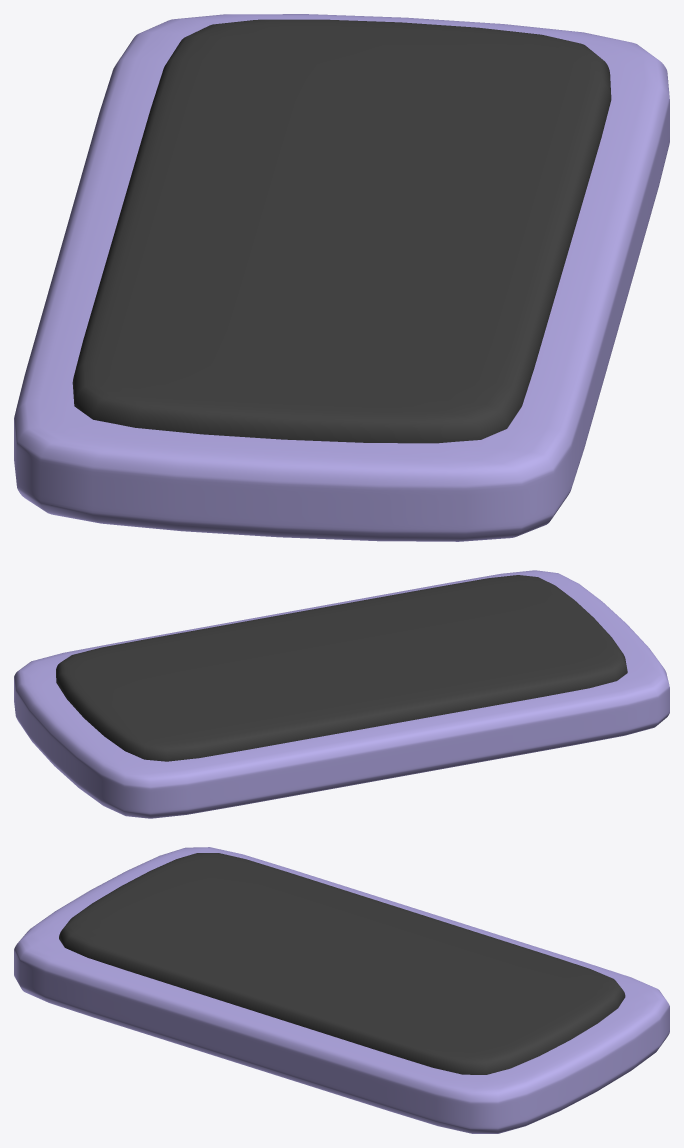
File: phone.glb
The picture shows the model from 3 angles, top to bottom: view 1: azimuth 30°, elevation 25°; view 2: azimuth 150°, elevation 25°; view 3: azimuth 270°, elevation 25°; orthographic projection. The views are drawn at different scales.
Visible parts, largest first — view 1: desk.006; view 2: desk.006; view 3: desk.006.
Part boxes in pixels (x1,y1,x2,y2): desk.006: [14, 14, 669, 541]; desk.006: [14, 570, 669, 818]; desk.006: [14, 847, 669, 1133].
Bounding box in the file's own units: 0.1608 × 0.0179 × 0.1778.
